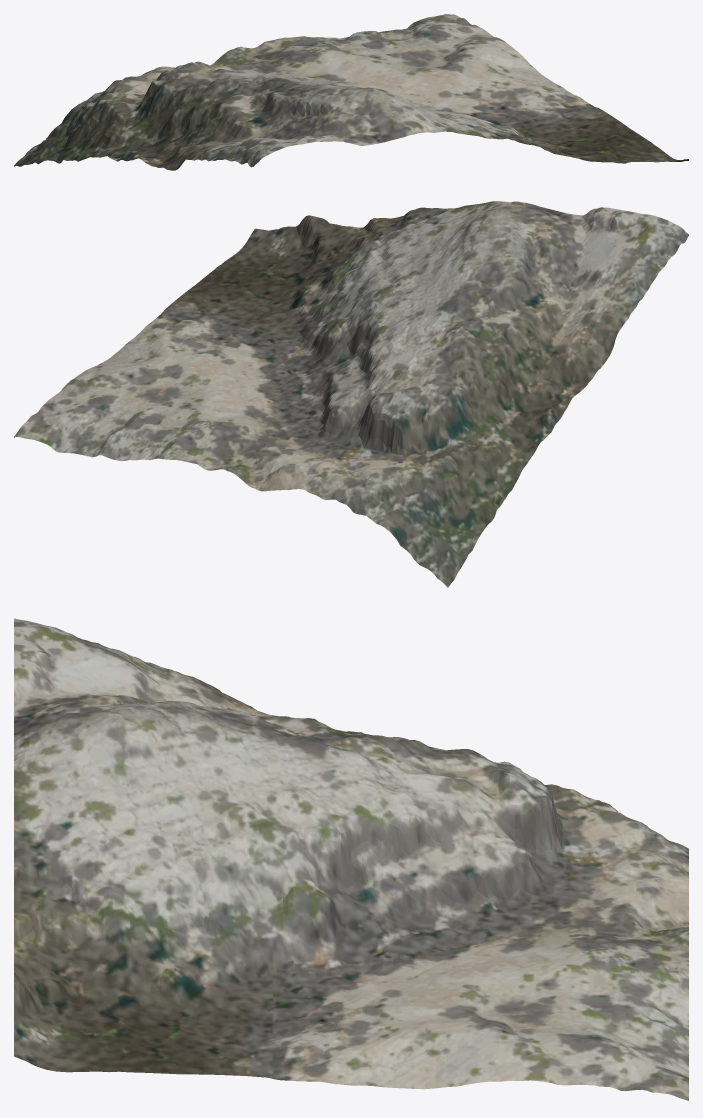
3 renders of one model, top to bottom at view 1: azimuth 30°, elevation 25°; view 2: azimuth 150°, elevation 25°; view 3: azimuth 270°, elevation 25°, orthographic. The views are drawn at different scales.
Bounding box in the file's own units: 250 × 104 × 241.
Materials: 1 (1 with a texture image).
